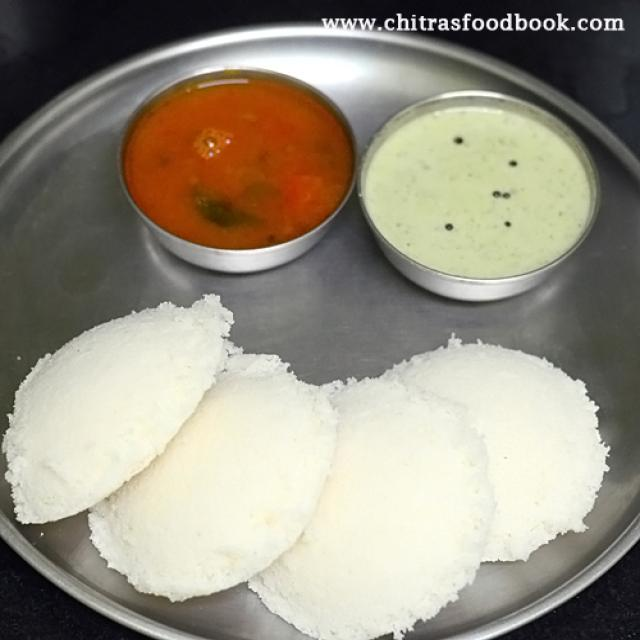chutney: (357, 85, 625, 290)
idli: (18, 304, 602, 616)
sambhar: (114, 60, 356, 278)
